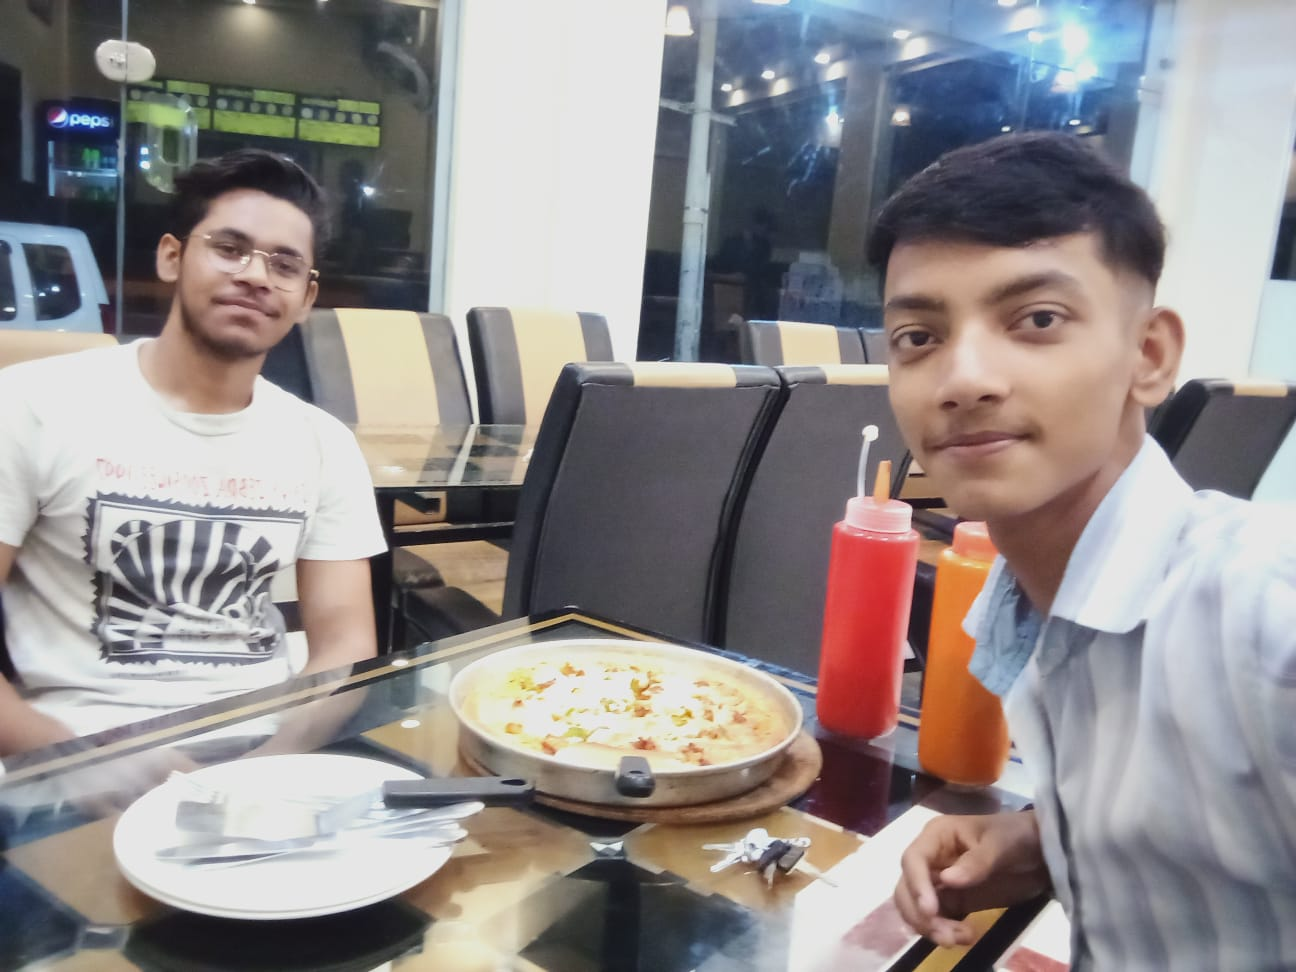NoMask: (886, 263, 1094, 516), (200, 221, 308, 354)
